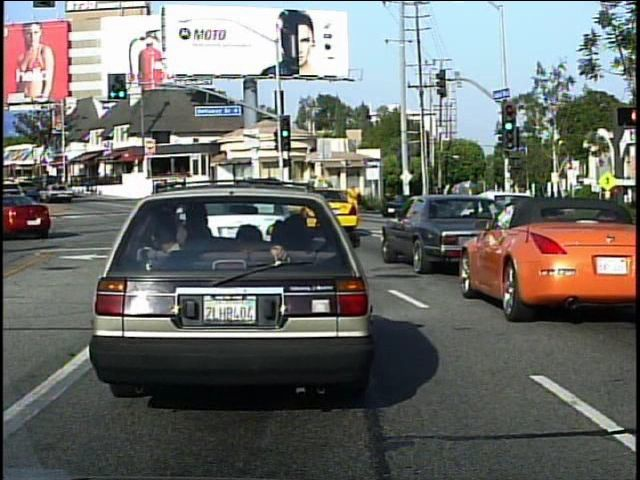person: (435, 185, 458, 228), (345, 184, 364, 222)
